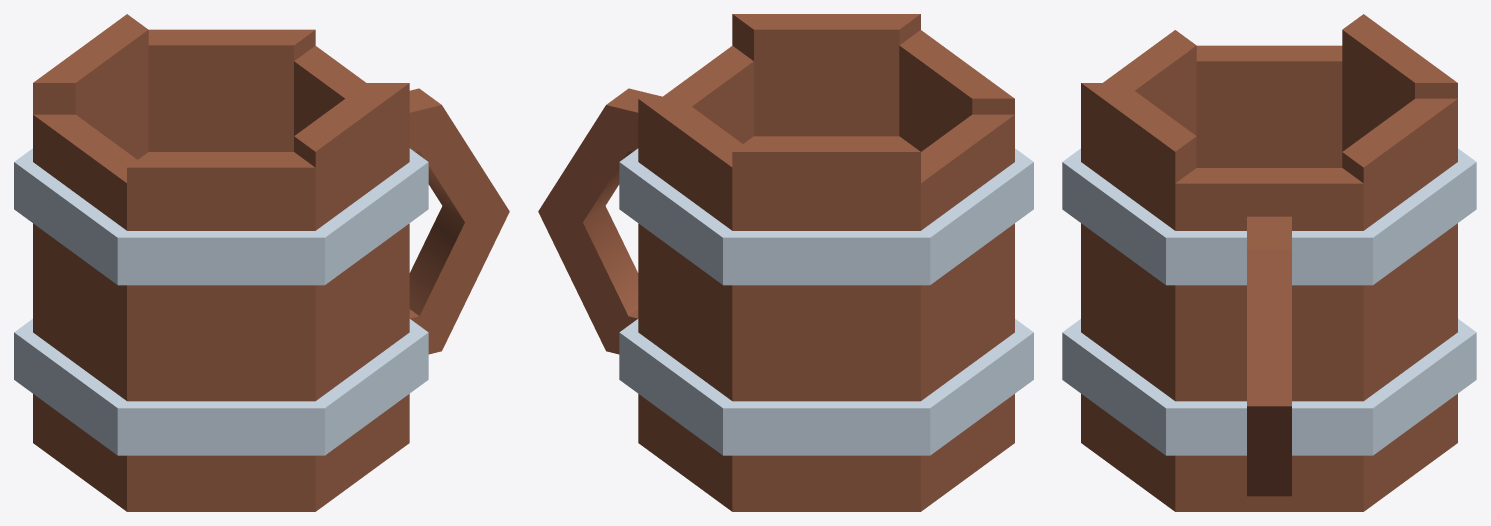
Rendered from mug.dae.
3 views of the same model, side by side, from view 1: azimuth 30°, elevation 25°; view 2: azimuth 150°, elevation 25°; view 3: azimuth 270°, elevation 25° (orthographic).
Visible parts, largest first — view 1: mug; view 2: mug; view 3: mug.
Boxes of the visible parts, x1=… form: mug: x1=14, y1=14, x2=509, y2=511; mug: x1=538, y1=14, x2=1033, y2=511; mug: x1=1062, y1=14, x2=1476, y2=511.
Bounding box in the file's own units: 0.3437 × 0.2734 × 0.2851.
